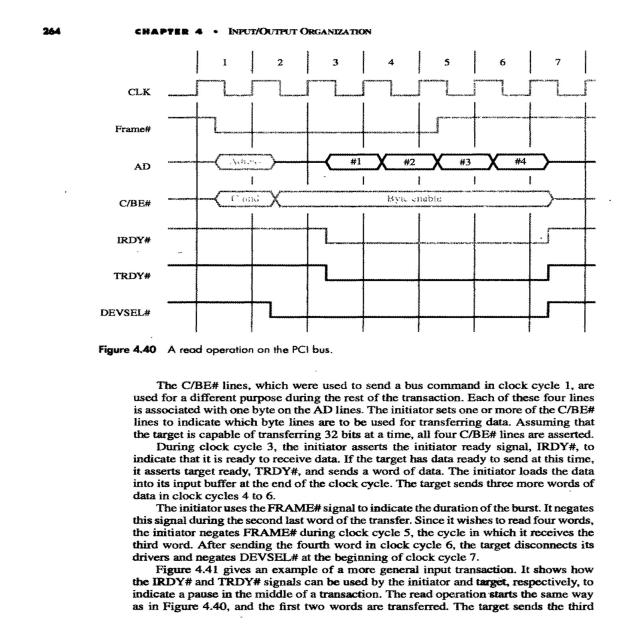diagram: (92, 40, 614, 367)
